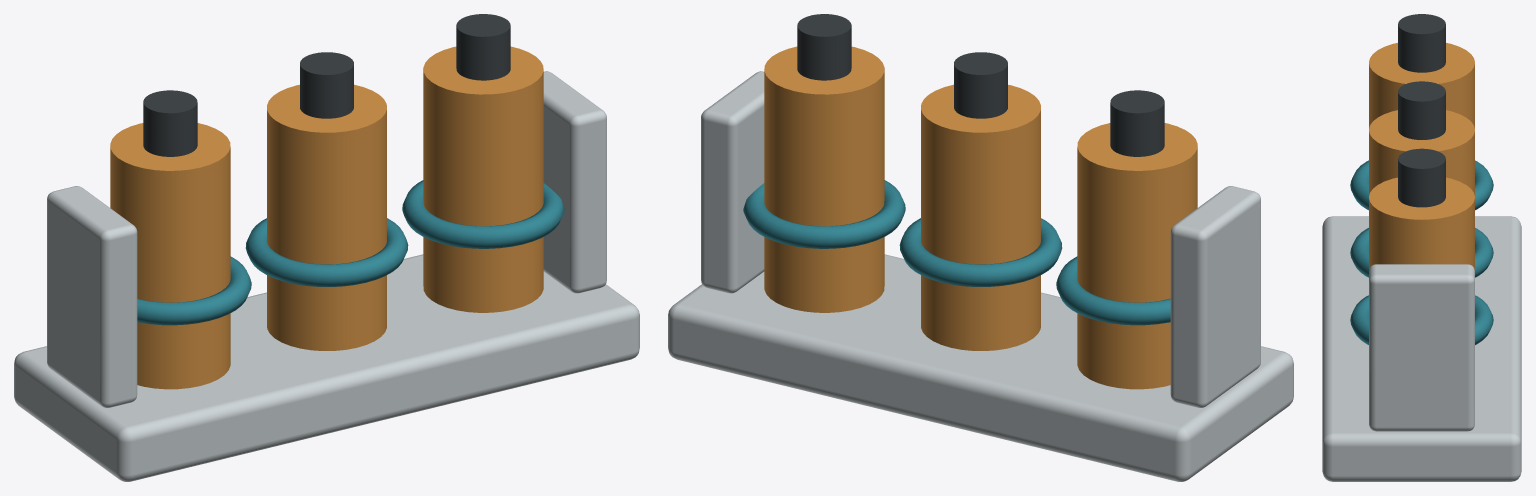
The model's file is bicycle-shop-and-repair-cafe-lubricant-bottle-holder-d1792ffe__32414.glb.
The picture shows the model from 3 angles, left to right: view 1: azimuth 30°, elevation 25°; view 2: azimuth 150°, elevation 25°; view 3: azimuth 270°, elevation 25°; orthographic projection. The views are drawn at different scales.
Parts seen in each view (by area): view 1: lubricant-bottle-holder; view 2: lubricant-bottle-holder; view 3: lubricant-bottle-holder.
Boxes of the visible parts, box(x1,y1,x2,y2) form: lubricant-bottle-holder: box(14, 14, 639, 481); lubricant-bottle-holder: box(668, 14, 1293, 481); lubricant-bottle-holder: box(1322, 14, 1521, 481).
Bounding box in the file's own units: 0.2 × 0.117 × 0.075.
